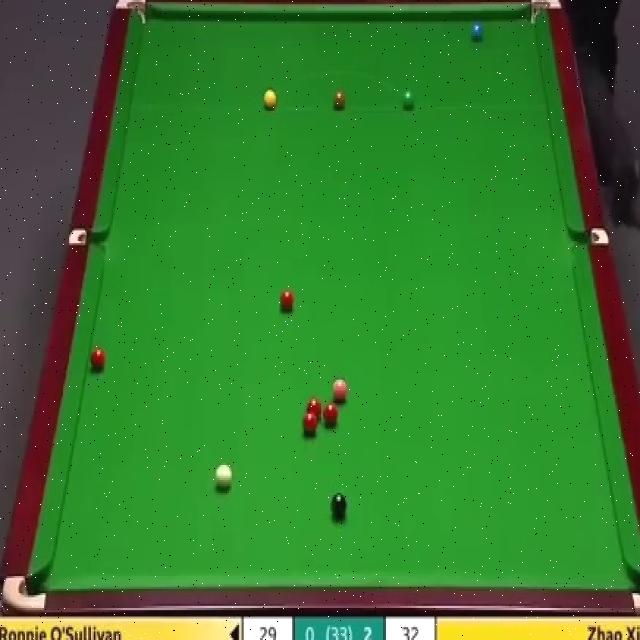black-ball: (330, 491, 348, 520)
blue-ball: (469, 17, 486, 43)
brown-ball: (332, 90, 347, 112)
green-ball: (401, 90, 416, 112)
pink-ball: (329, 378, 348, 404)
red-ball: (279, 288, 296, 314), (302, 412, 318, 438), (322, 402, 339, 426), (89, 347, 105, 372), (305, 398, 322, 420)
white-ball: (214, 459, 233, 490)
yellow-ball: (263, 89, 278, 111)
